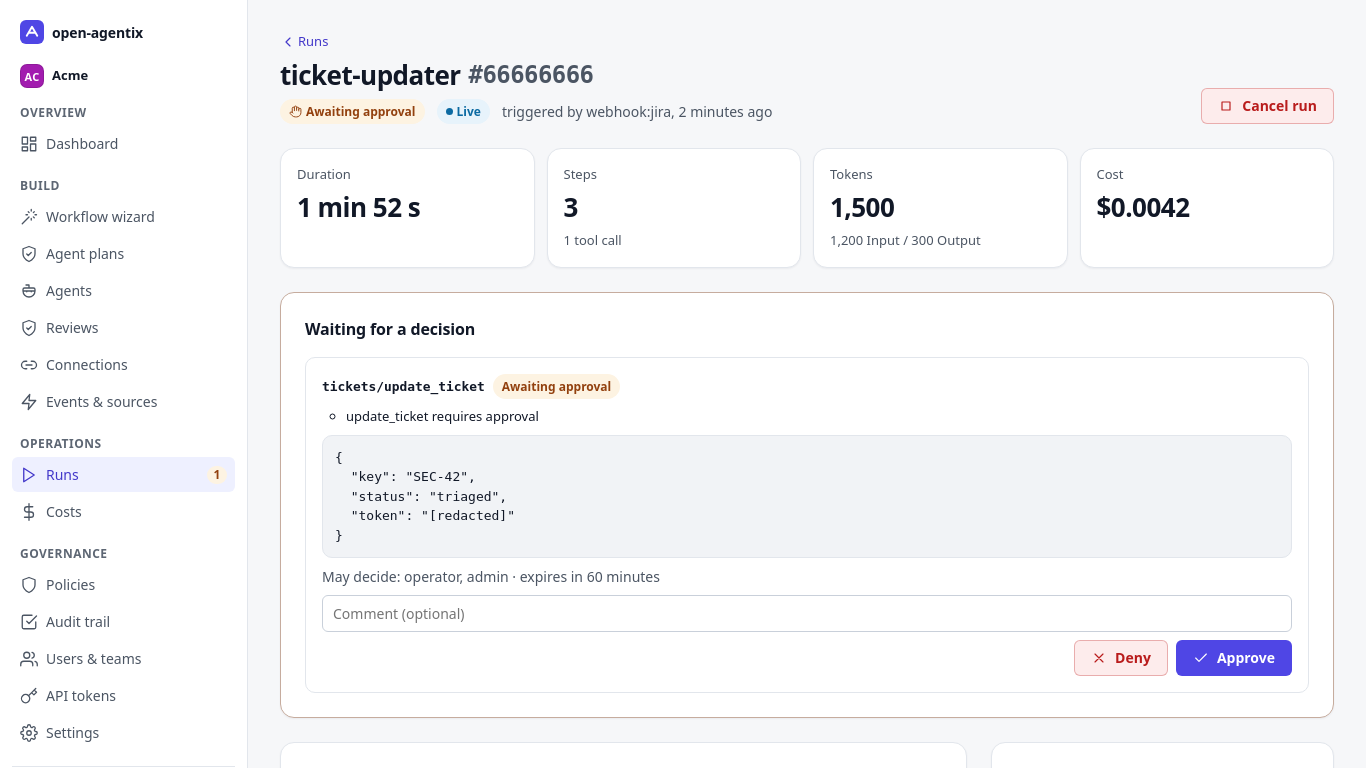
Test: run detail › cancels after confirmation
Click the button "Cancel run" at (1268, 106), box [1201,88,1334,124]
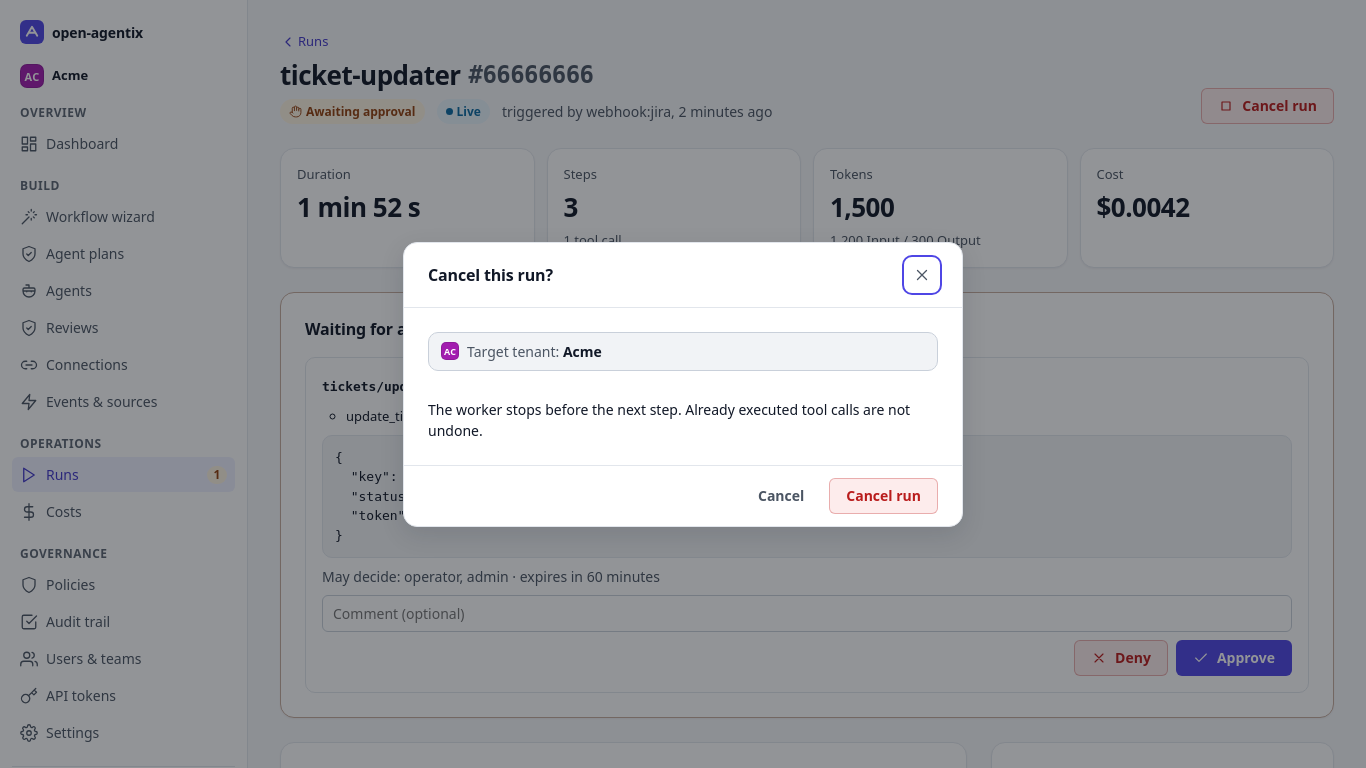
Click the button "Cancel run" at (884, 496), box [829,478,938,514]
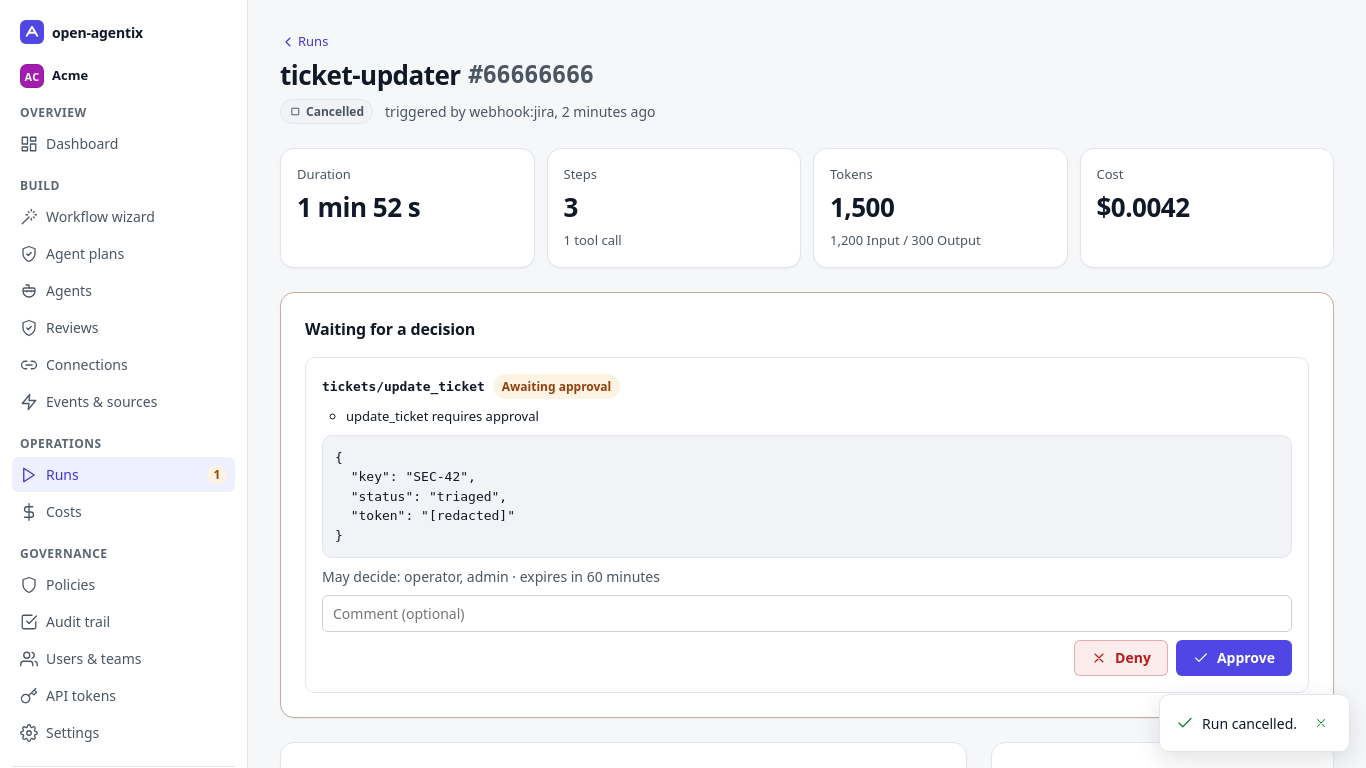
Now the text "Run cancelled." is shown, box [1202,712,1297,734]
Now the text "Cancelled" is shown, box [280,99,373,124]
